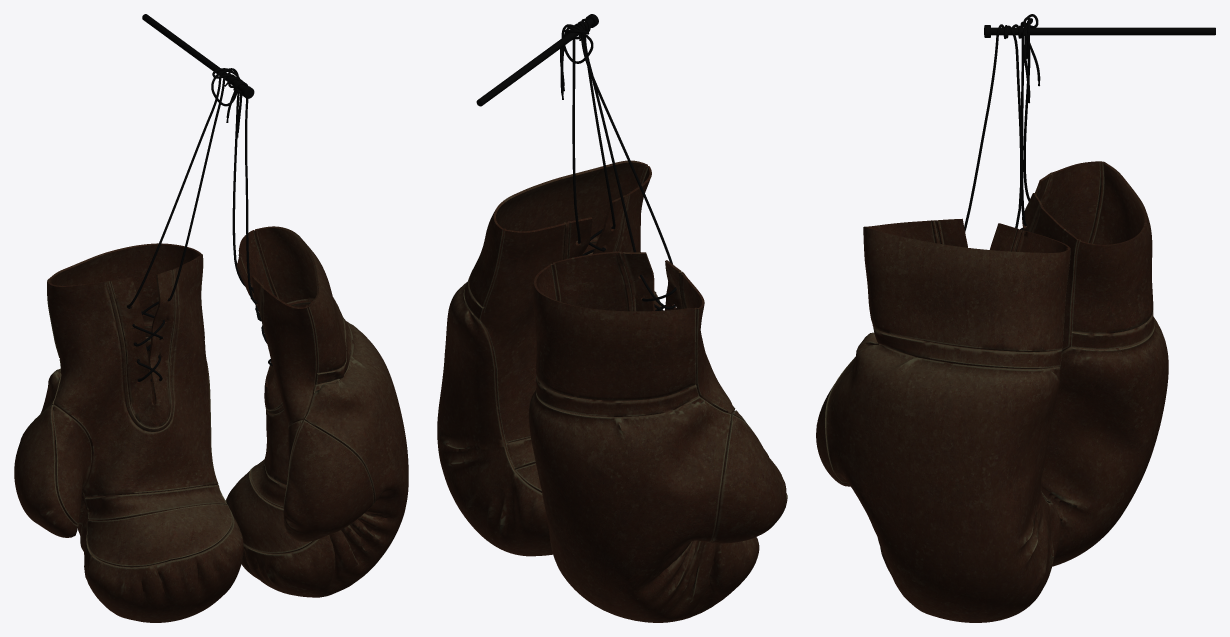
3 views of the same model, side by side, from view 1: azimuth 30°, elevation 25°; view 2: azimuth 150°, elevation 25°; view 3: azimuth 270°, elevation 25° (orthographic). The views are drawn at different scales.
Visible parts, largest first — view 1: Group002, Shnur.001, Shnur, Cylinder001; view 2: Group002, Shnur.001, Shnur, Cylinder001; view 3: Group002, Cylinder001, Shnur.001, Shnur.
Boxes of the visible parts, box(x1,y1,x2,y2) form: Group002: box(14, 226, 408, 622); Shnur.001: box(127, 68, 242, 381); Shnur: box(224, 76, 272, 365); Cylinder001: box(142, 14, 254, 98); Group002: box(437, 160, 787, 622); Shnur.001: box(560, 24, 676, 310); Shnur: box(572, 18, 615, 255); Cylinder001: box(476, 14, 598, 106); Group002: box(816, 161, 1168, 622); Cylinder001: box(984, 25, 1215, 37); Shnur.001: box(1020, 14, 1040, 229); Shnur: box(964, 24, 1022, 231).
Bounding box in the file's own units: 0.2581 × 0.387 × 0.2416.
Materials: 4 (2 with a texture image).
